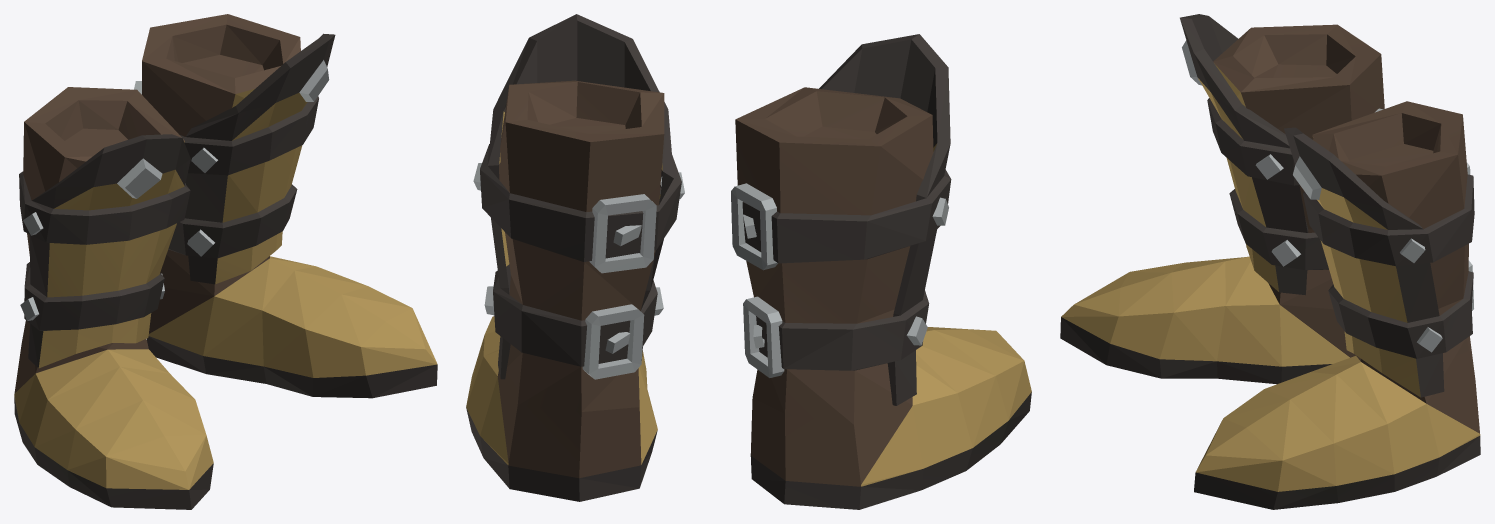
File: bootsRoyalDisplay.fbx
3 views of the same model, side by side, from view 1: azimuth 30°, elevation 25°; view 2: azimuth 150°, elevation 25°; view 3: azimuth 270°, elevation 25° (orthographic). The views are drawn at different scales.
Parts seen in each view (by area): view 1: bootsRoyalDisplay; view 2: bootsRoyalDisplay; view 3: bootsRoyalDisplay.
Boxes of the visible parts, bbox=[...] form: bootsRoyalDisplay: bbox=[14, 14, 437, 509]; bootsRoyalDisplay: bbox=[466, 14, 1031, 509]; bootsRoyalDisplay: bbox=[1060, 14, 1480, 509].
Bounding box in the file's own units: 1.59 × 1.26 × 1.43.
